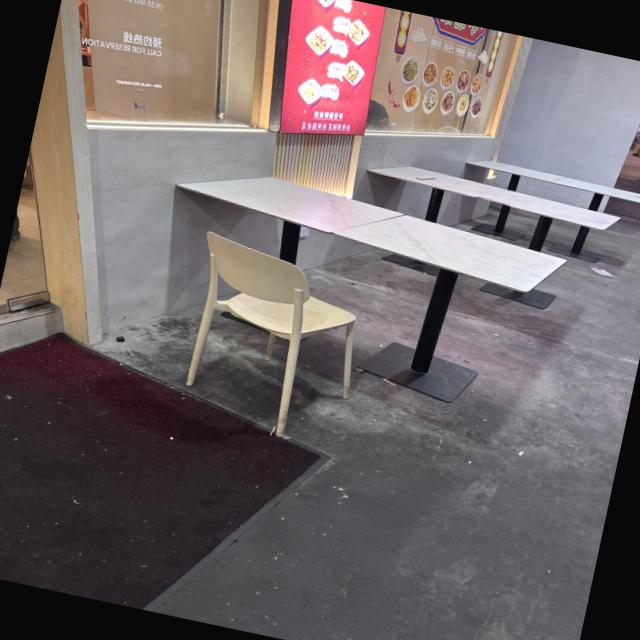Chair: (156, 216, 371, 445)
